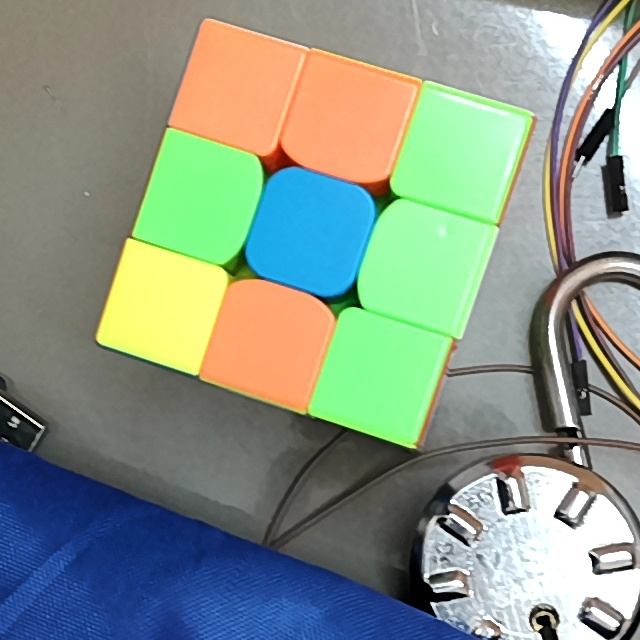tile: (382, 220, 470, 305), (267, 190, 353, 276), (339, 334, 424, 417), (303, 78, 389, 160), (418, 113, 504, 192), (161, 156, 243, 238), (197, 46, 278, 129), (227, 304, 312, 381), (124, 267, 201, 345)
